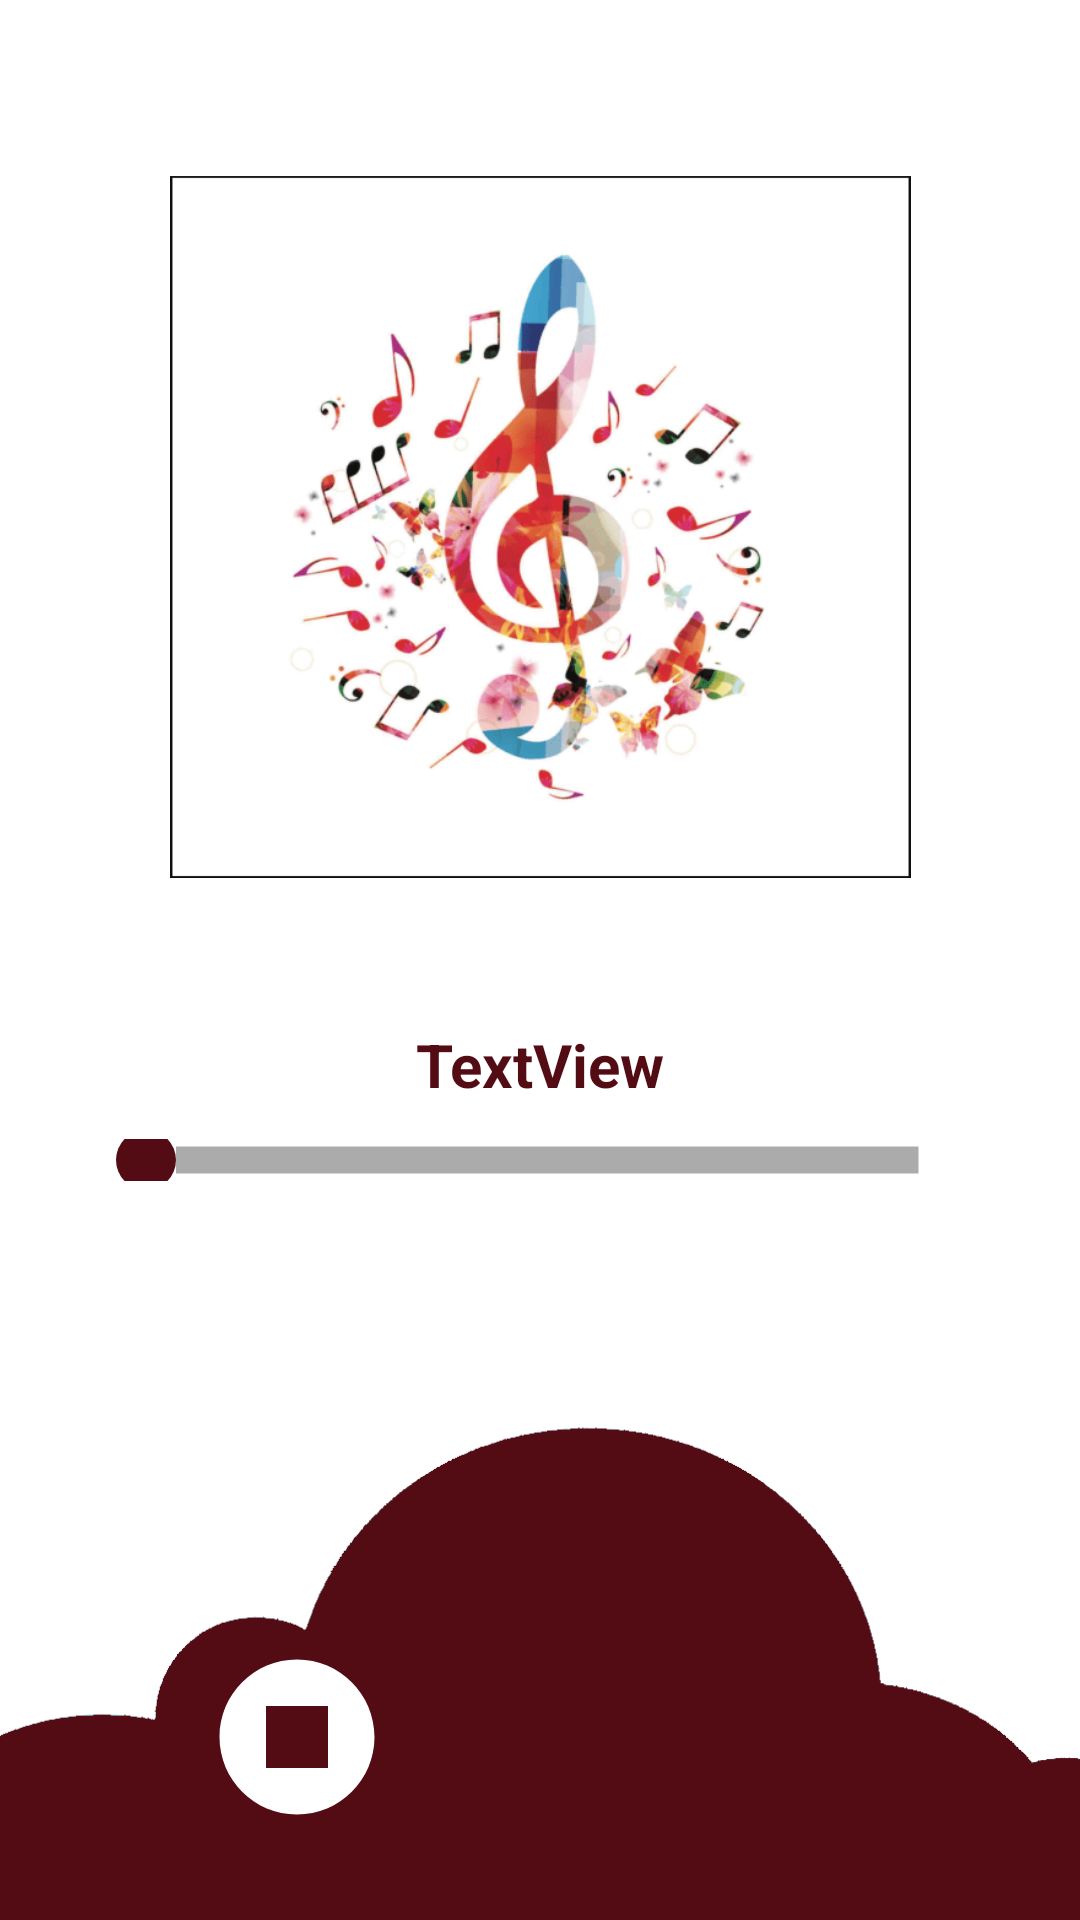

Screen size 1080 × 1920. Icon name, then its center in pixels as point (x, y):
stop circle: point (297, 1737)
